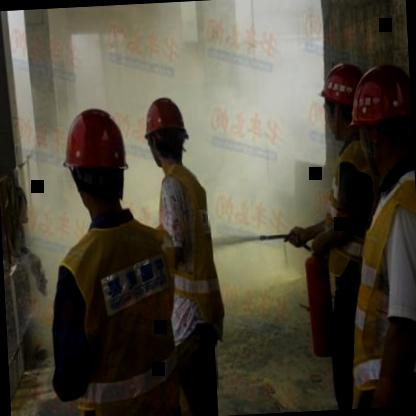helmet: (56, 100, 132, 223), (342, 56, 408, 168), (139, 91, 192, 172), (313, 54, 365, 135)
